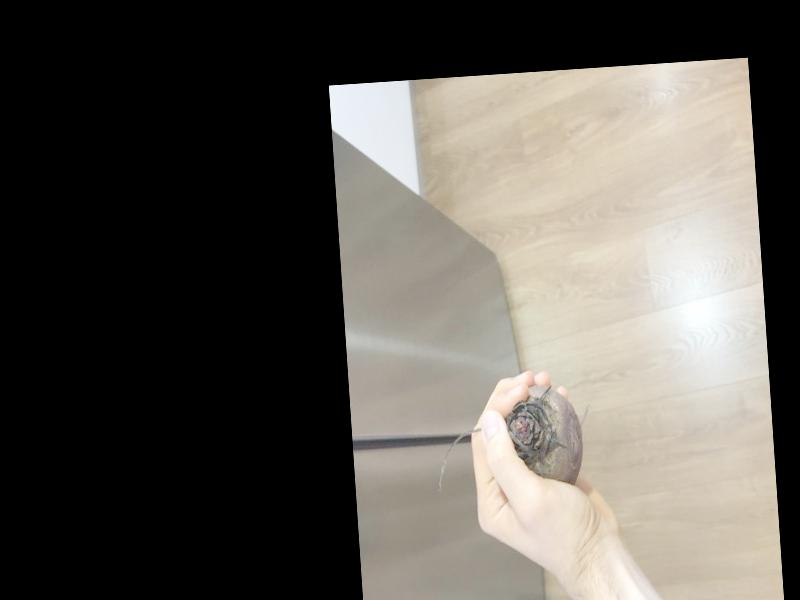Beet: (431, 381, 585, 494)
